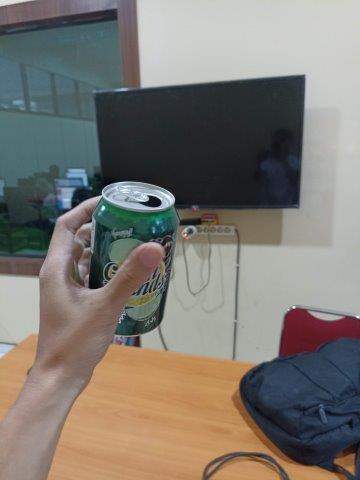kaleng: (88, 181, 179, 337)
